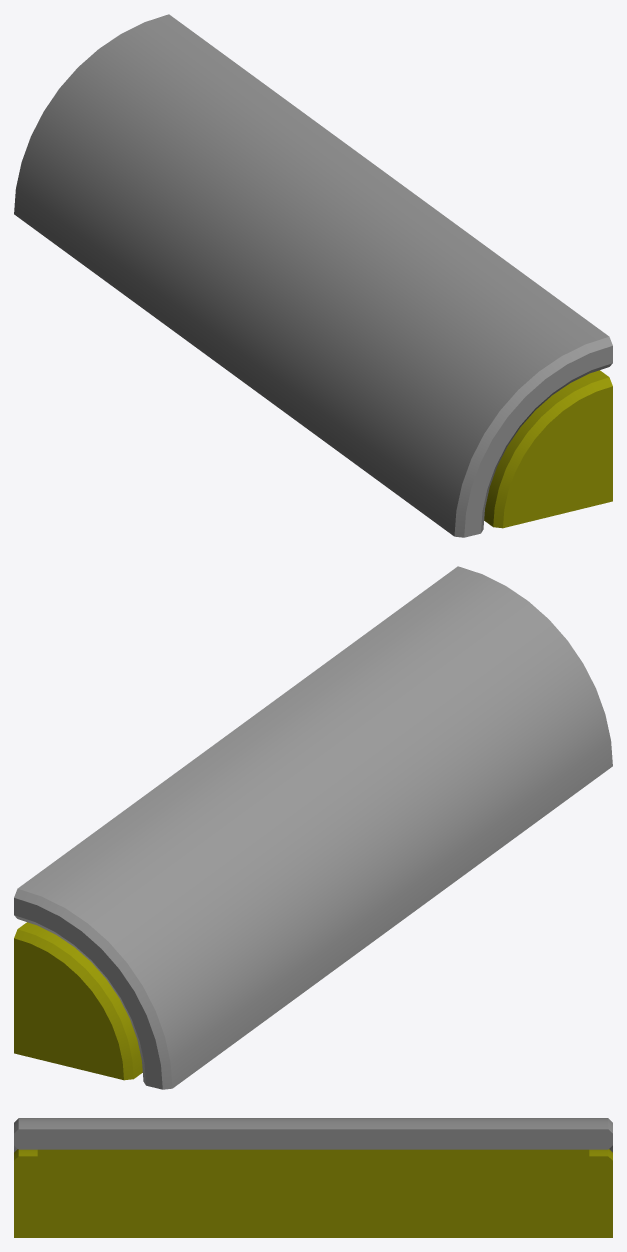
Rendered from Mesh_Levelblock_Curve2.FBX.
3 renders of one model, top to bottom at view 1: azimuth 30°, elevation 25°; view 2: azimuth 150°, elevation 25°; view 3: azimuth 270°, elevation 25°, orthographic. The views are drawn at different scales.
Visible parts, largest first — view 1: Mesh_BlockCurve2; view 2: Mesh_BlockCurve2; view 3: Mesh_BlockCurve2.
Part boxes in pixels (x1,y1,x2,y2): Mesh_BlockCurve2: (14, 14, 612, 537); Mesh_BlockCurve2: (14, 566, 612, 1089); Mesh_BlockCurve2: (14, 1118, 612, 1237).
Size of the model in its own units: 2 by 2 by 10.
